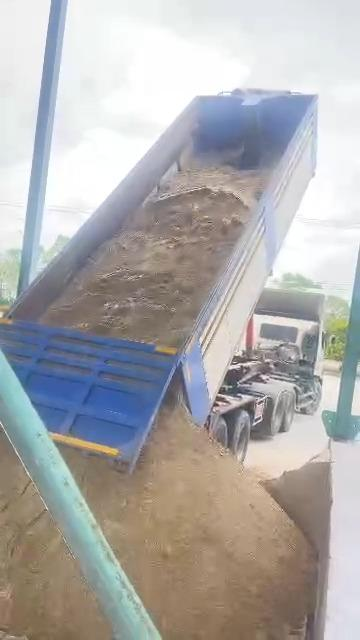sand: (63, 408, 314, 639), (65, 408, 311, 638), (41, 167, 268, 346), (42, 167, 267, 345), (0, 433, 110, 639), (0, 435, 109, 639), (264, 450, 329, 554), (165, 365, 189, 412)
